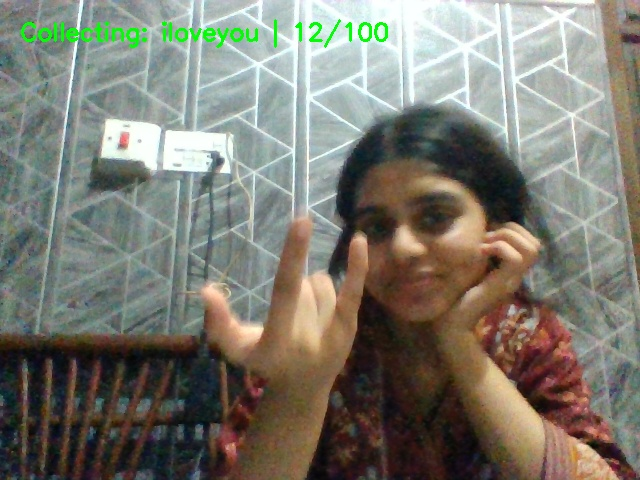iloveyou: (199, 216, 379, 409)
